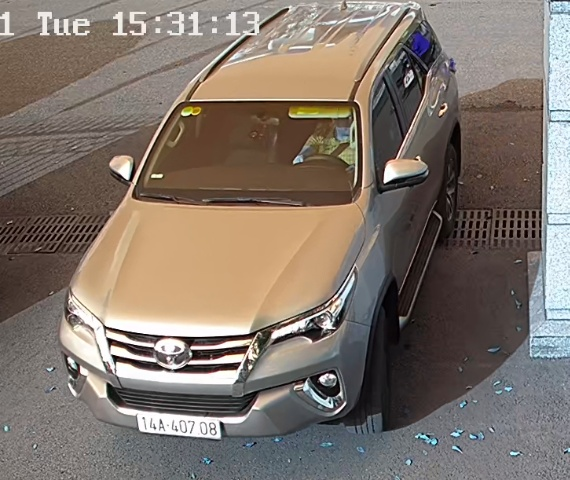vehicle plate: (132, 404, 226, 442)
